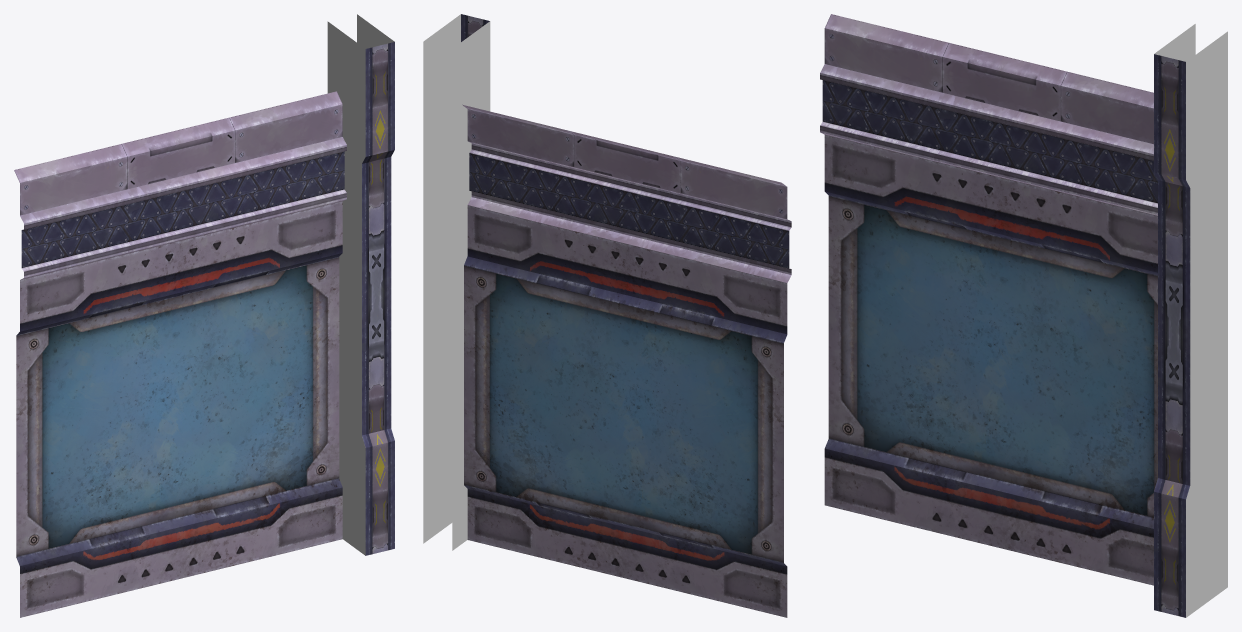
The model's file is SM_GlassPanel02.fbx.
3 renders of one model, left to right at view 1: azimuth 30°, elevation 25°; view 2: azimuth 150°, elevation 25°; view 3: azimuth 330°, elevation 25°, orthographic. The views are drawn at different scales.
Visible parts, largest first — view 1: SM_GlassPanel02; view 2: SM_GlassPanel02; view 3: SM_GlassPanel02.
Part boxes in pixels (x1,y1,x2,y2): SM_GlassPanel02: [14, 14, 394, 617]; SM_GlassPanel02: [423, 14, 791, 617]; SM_GlassPanel02: [820, 14, 1227, 617].
Bounding box in the file's own units: 600 × 825 × 112.
